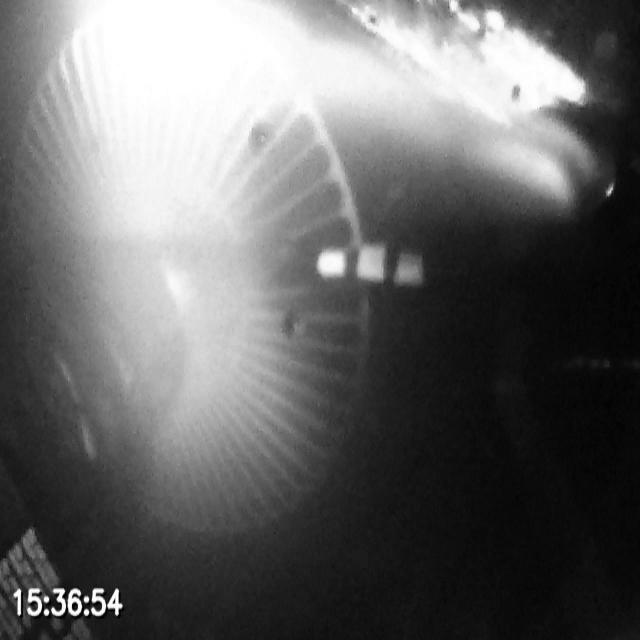white-dots: (316, 242, 426, 288)
